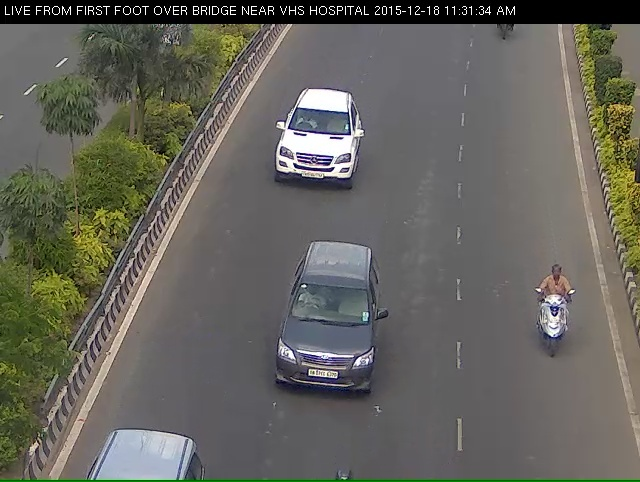Car: (279, 271, 392, 434), (267, 100, 357, 215)
Person: (529, 277, 583, 385)
